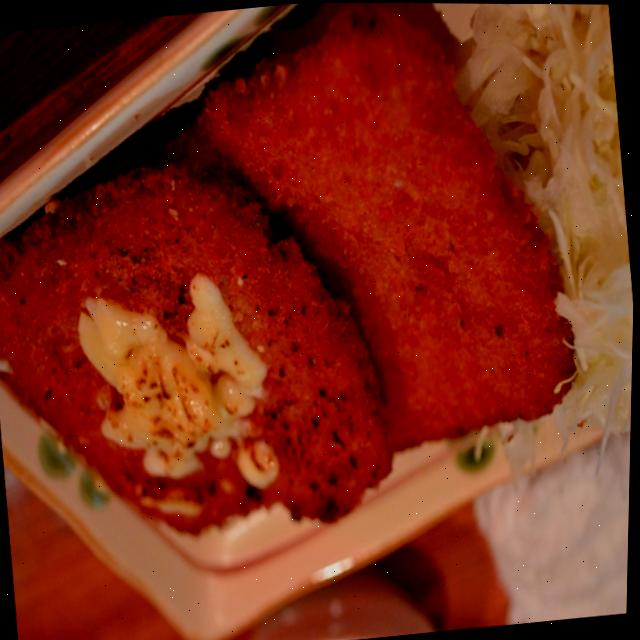炸货点心: (0, 0, 611, 606)
